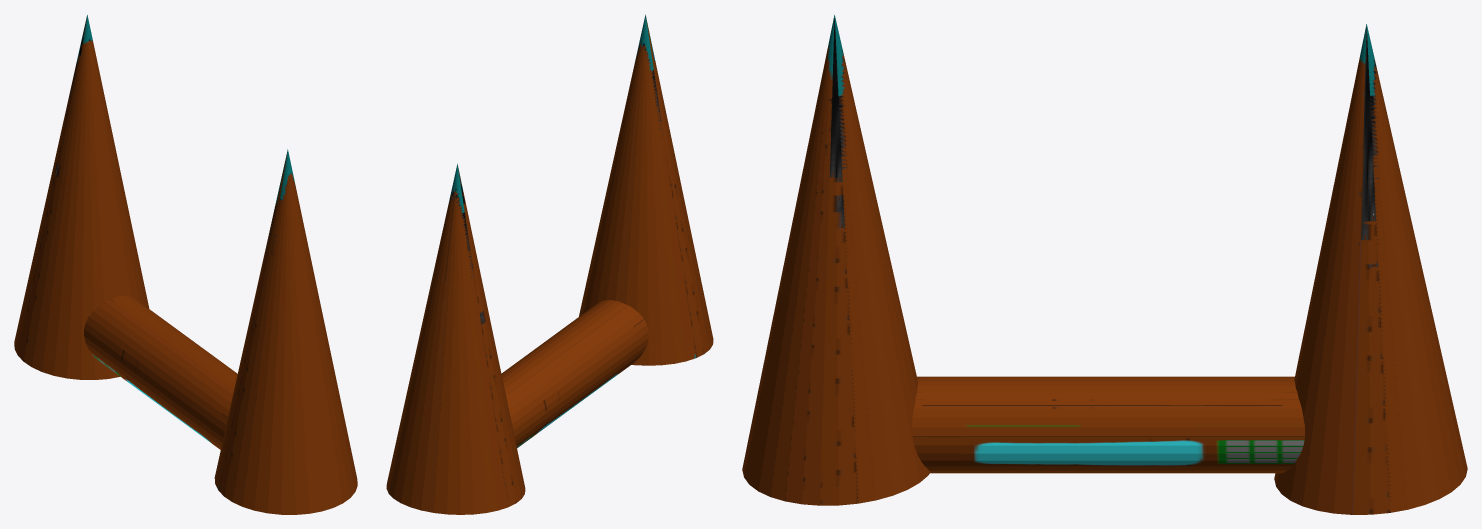
File: beta.obj
3 renders of one model, left to right at view 1: azimuth 30°, elevation 25°; view 2: azimuth 150°, elevation 25°; view 3: azimuth 270°, elevation 25°, orthographic. The views are drawn at different scales.
Parts seen in each view (by area): view 1: Cylinder; view 2: Cylinder; view 3: Cylinder.
Part boxes in pixels (box(x1,y1,x2,y2)): Cylinder: box(14, 15, 357, 514); Cylinder: box(386, 14, 713, 514); Cylinder: box(742, 15, 1467, 514).
Size of the model in its own units: 2.06 by 5.33 by 7.5.
